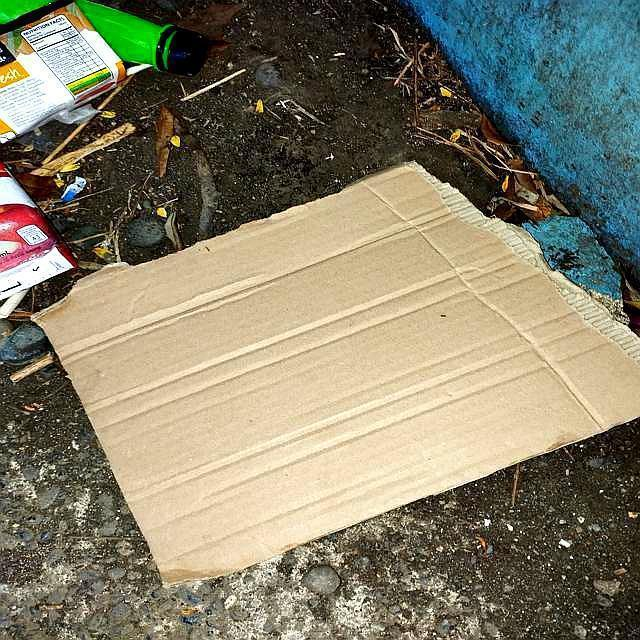Biodegradable: (33, 163, 640, 581)
